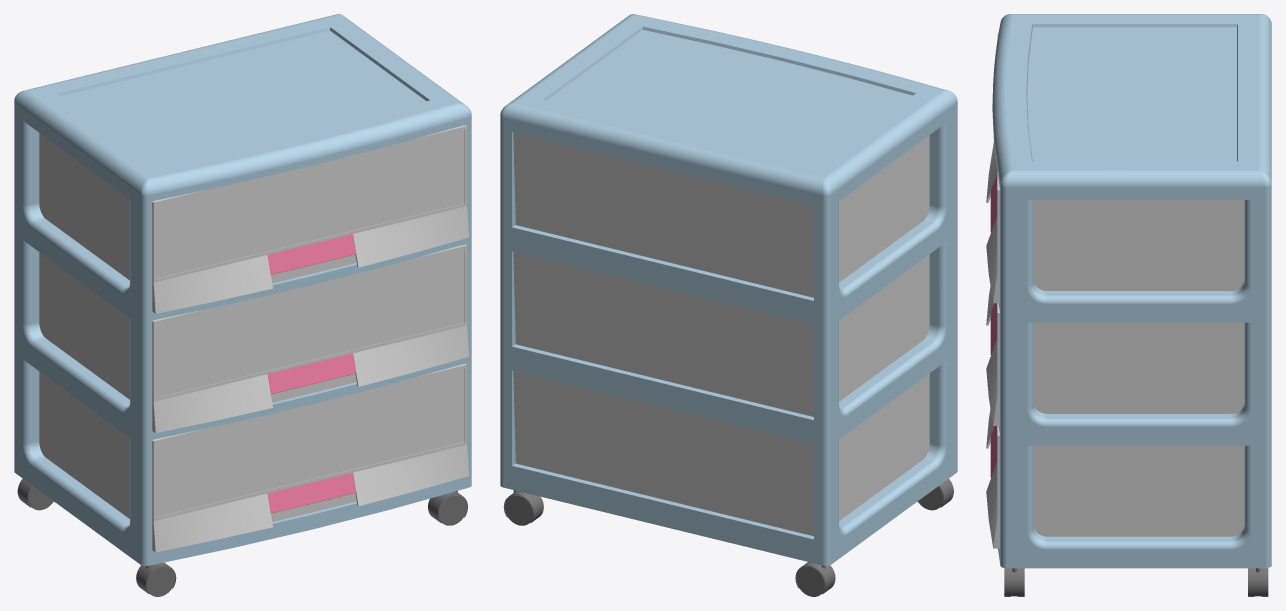
The model's file is 072_衣装ケース.glb.
3 renders of one model, left to right at view 1: azimuth 30°, elevation 25°; view 2: azimuth 150°, elevation 25°; view 3: azimuth 270°, elevation 25°, orthographic. The views are drawn at different scales.
Parts seen in each view (by area): view 1: body, 引き出し下, 引き出し中, 引き出し上; view 2: body, 引き出し上, 引き出し中, 引き出し下; view 3: body, 引き出し中, 引き出し下, 引き出し上.
Part boxes in pixels (x1,y1,x2,y2): body: (14,14,471,596); 引き出し下: (39,363,468,552); 引き出し中: (39,244,468,432); 引き出し上: (39,125,468,313); body: (500,14,957,596); 引き出し上: (513,132,929,297); 引き出し中: (513,251,929,416); 引き出し下: (513,371,929,536); body: (992,14,1271,596); 引き出し中: (986,286,1244,425); 引き出し下: (986,409,1244,548); 引き出し上: (986,33,1244,303).
Size of the model in its own units: 0.58 by 0.7 by 0.4216.
